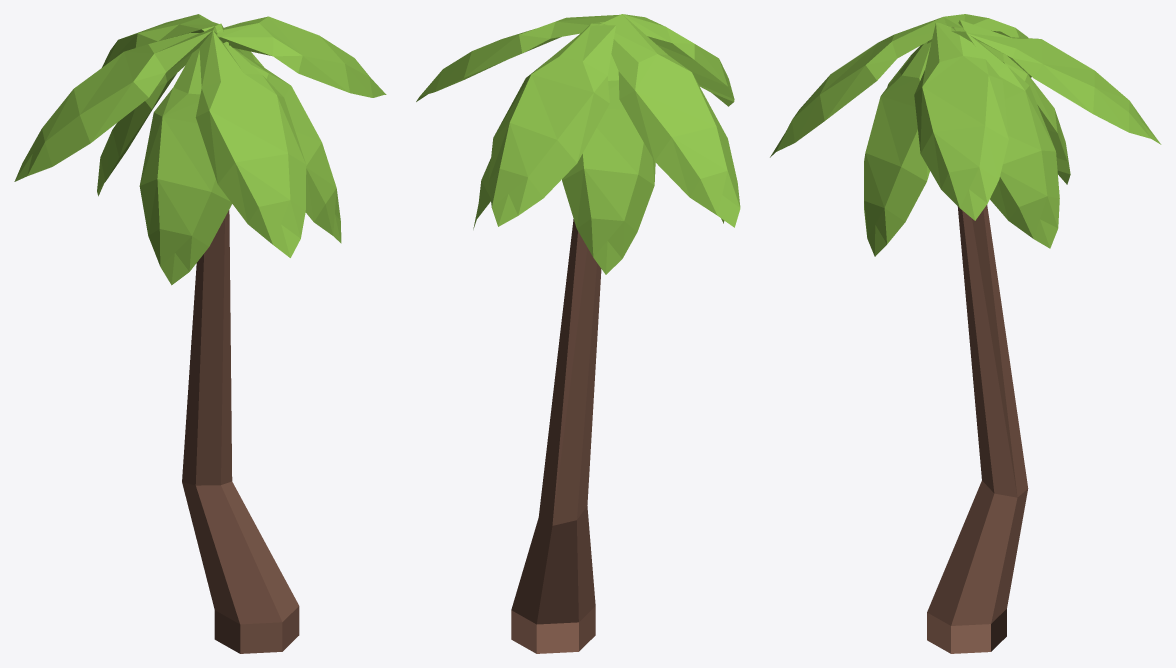
Rendered from palm-tree-02.glb.
3 renders of one model, left to right at view 1: azimuth 30°, elevation 25°; view 2: azimuth 150°, elevation 25°; view 3: azimuth 270°, elevation 25°, orthographic. The views are drawn at different scales.
Parts seen in each view (by area): view 1: Node; view 2: Node; view 3: Node.
Boxes of the visible parts, x1,y1,x2,y2 form: Node: (14, 14, 386, 653); Node: (416, 14, 740, 653); Node: (770, 14, 1161, 653).
Bounding box in the file's own units: 0.2346 × 0.4078 × 0.2435.
